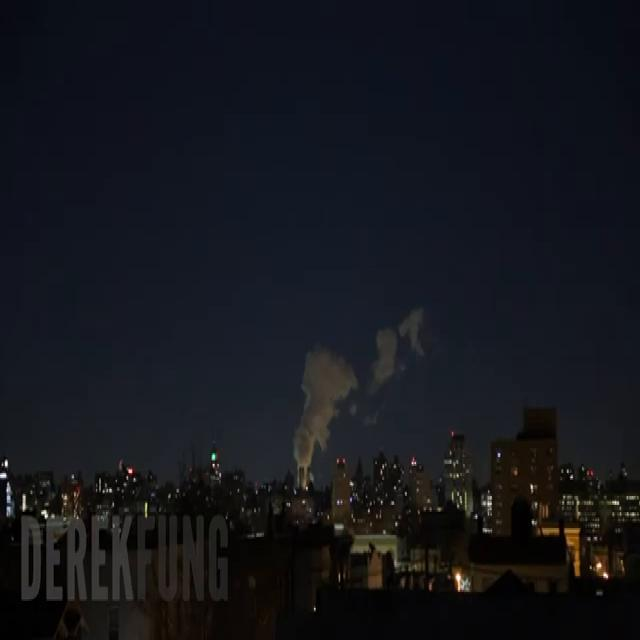smoke: (291, 336, 359, 469), (370, 307, 427, 388)
